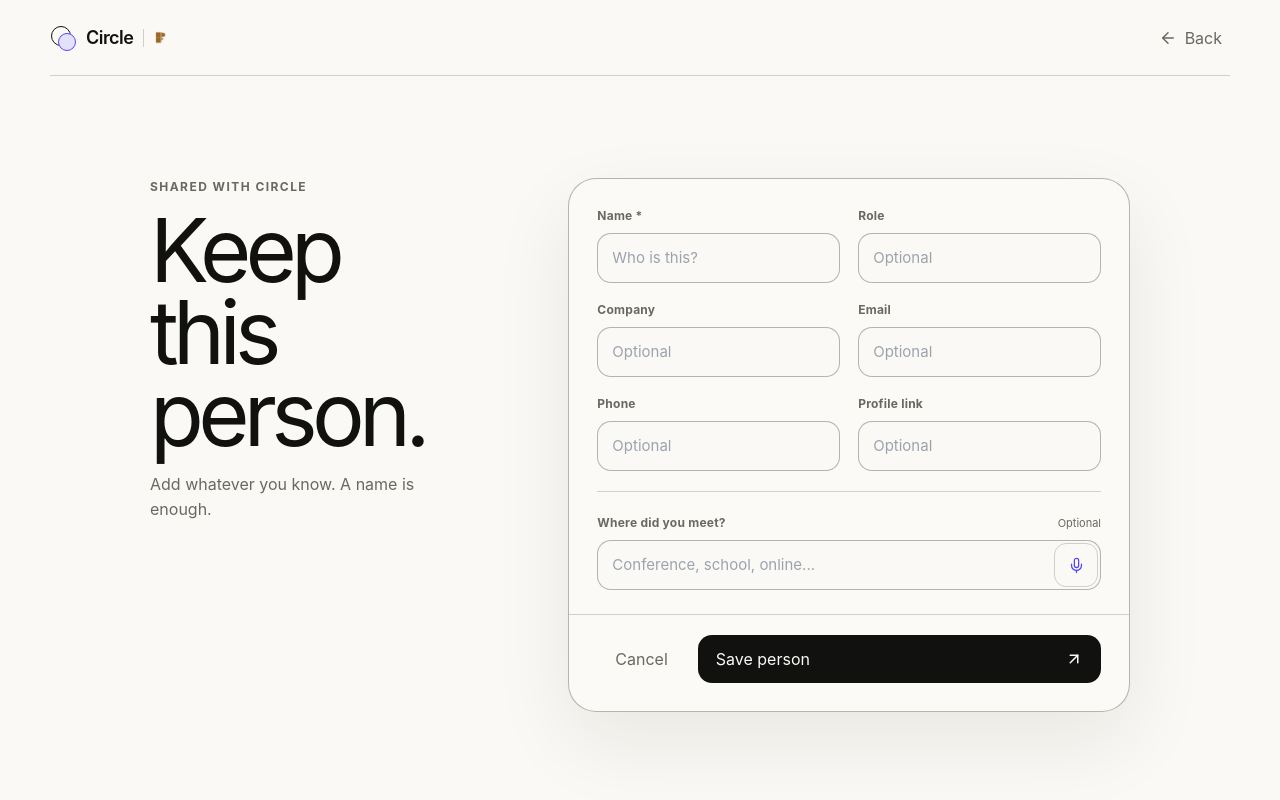
Scenario: ShareContact › keeps an empty share in place and focuses the missing name
The width and height of the screenshot is (1280, 800).
Expected: the heading "Keep this person." is shown, [150, 210, 466, 456]
What coordinates should you click on to do the following:
click the button "Save person"
I would click on:
 (763, 659)
Its box is [698, 635, 1101, 683].
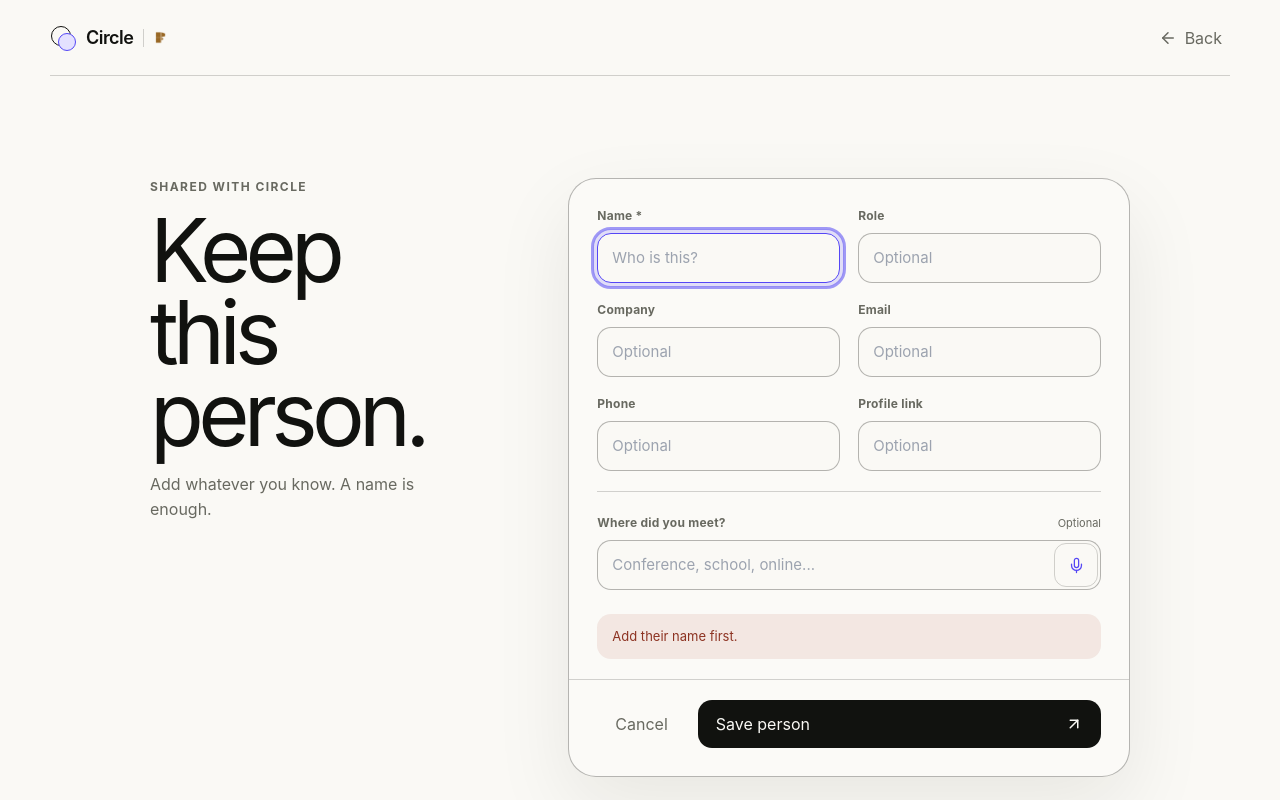
Result: the message reads "Add their name first." at [612, 628, 737, 644]
